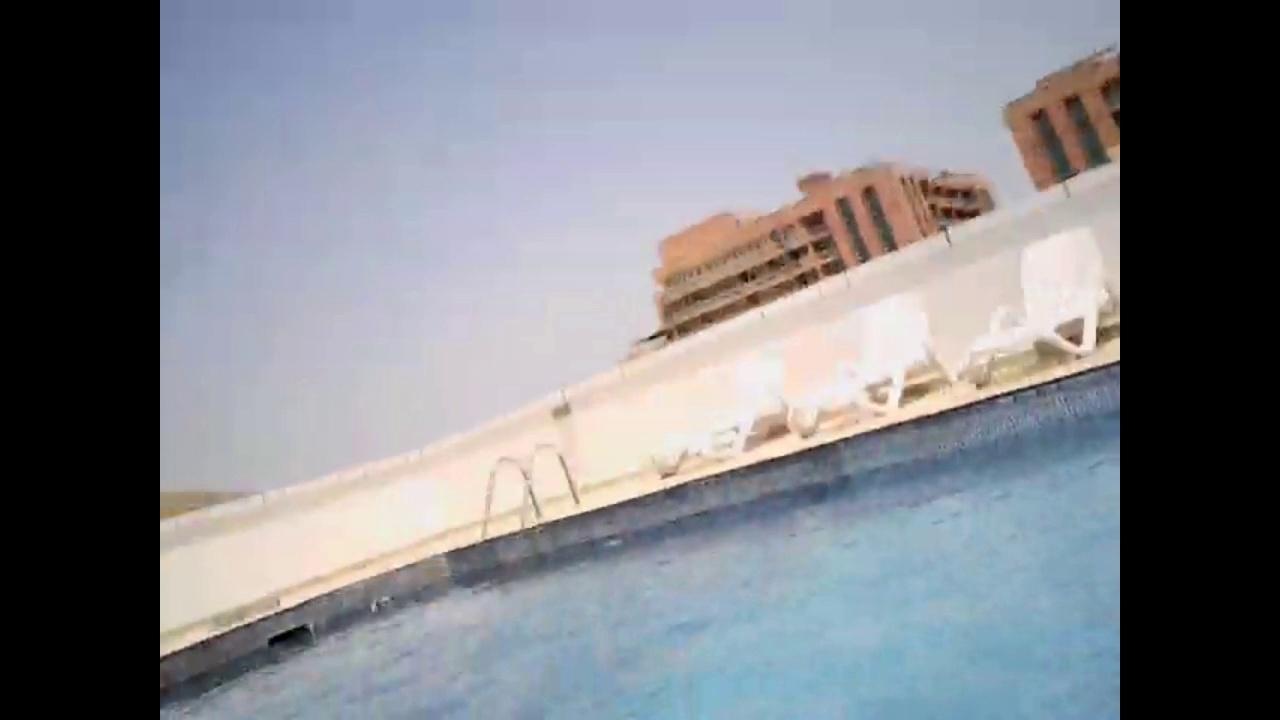debris: (366, 593, 398, 615)
